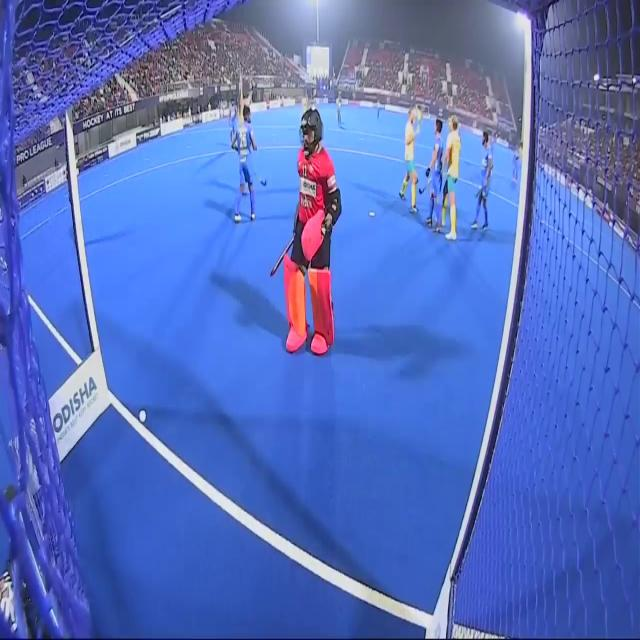ball: (136, 404, 149, 428)
